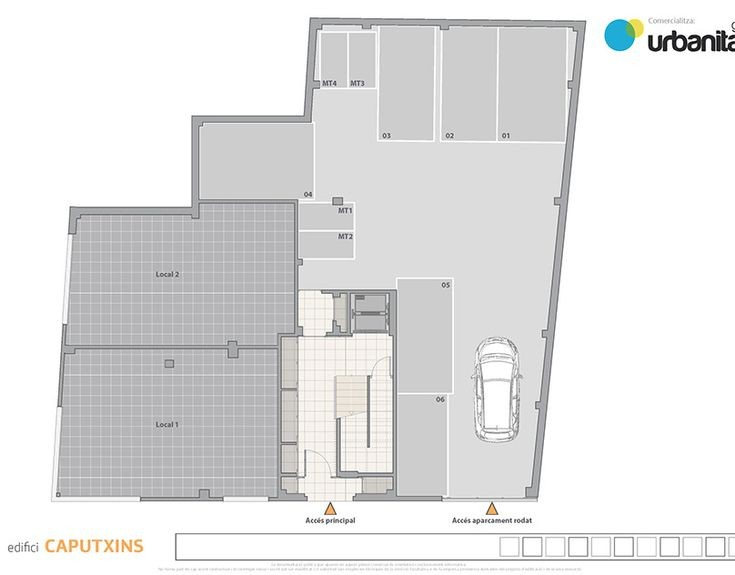door: (301, 438, 335, 484), (368, 353, 399, 383)
room: (55, 351, 284, 503), (64, 204, 304, 342), (314, 26, 565, 157), (394, 293, 537, 500)
wall: (307, 12, 589, 35), (273, 341, 291, 500), (386, 290, 400, 472), (58, 342, 281, 353), (191, 113, 314, 129), (569, 16, 588, 110), (304, 16, 319, 125), (293, 204, 304, 335), (71, 205, 198, 216), (187, 121, 204, 201), (204, 195, 299, 208), (321, 285, 394, 300), (337, 466, 397, 480), (352, 491, 445, 500), (321, 328, 391, 338), (57, 324, 65, 402), (144, 495, 230, 502), (337, 420, 345, 476), (272, 491, 309, 501), (345, 292, 352, 339)
window: (51, 409, 66, 502), (62, 238, 77, 325), (54, 491, 146, 504)
